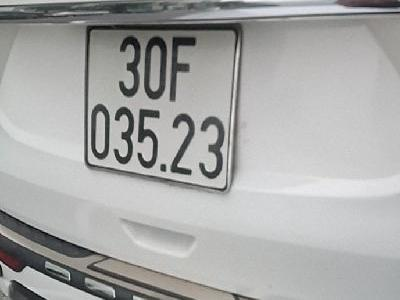lisence: (83, 24, 244, 193)
